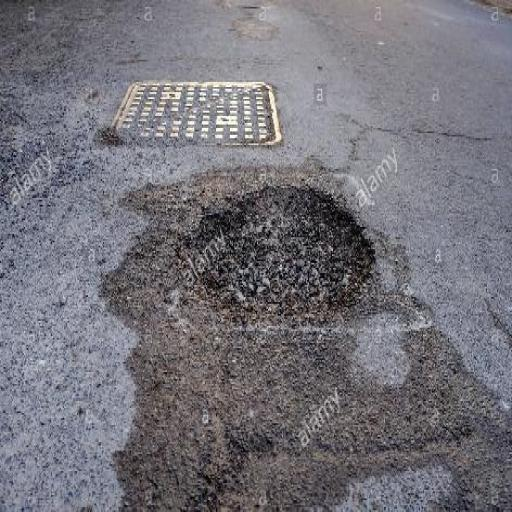hole: (155, 154, 417, 364), (204, 439, 290, 512), (322, 437, 487, 459), (226, 12, 290, 56)
